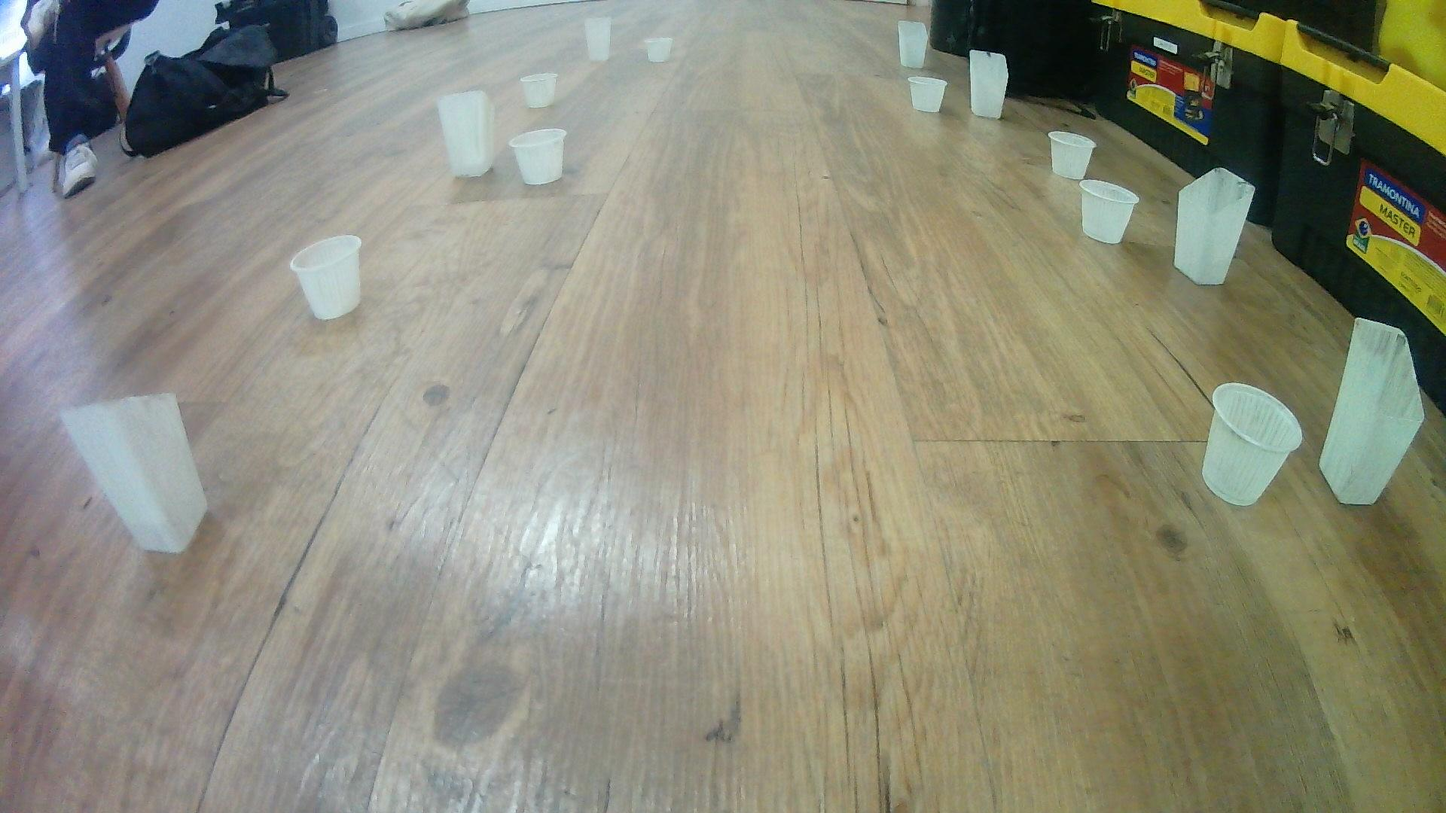erva_daninha: (59, 393, 209, 556), (1319, 315, 1426, 507), (1173, 166, 1255, 287), (437, 89, 496, 179), (967, 49, 1010, 121), (896, 19, 929, 70), (584, 17, 613, 64)
planta: (1200, 382, 1304, 508), (289, 233, 366, 322), (1077, 178, 1141, 246), (508, 128, 569, 188), (1048, 129, 1098, 181), (906, 75, 949, 113), (520, 73, 560, 108), (643, 37, 674, 63)
